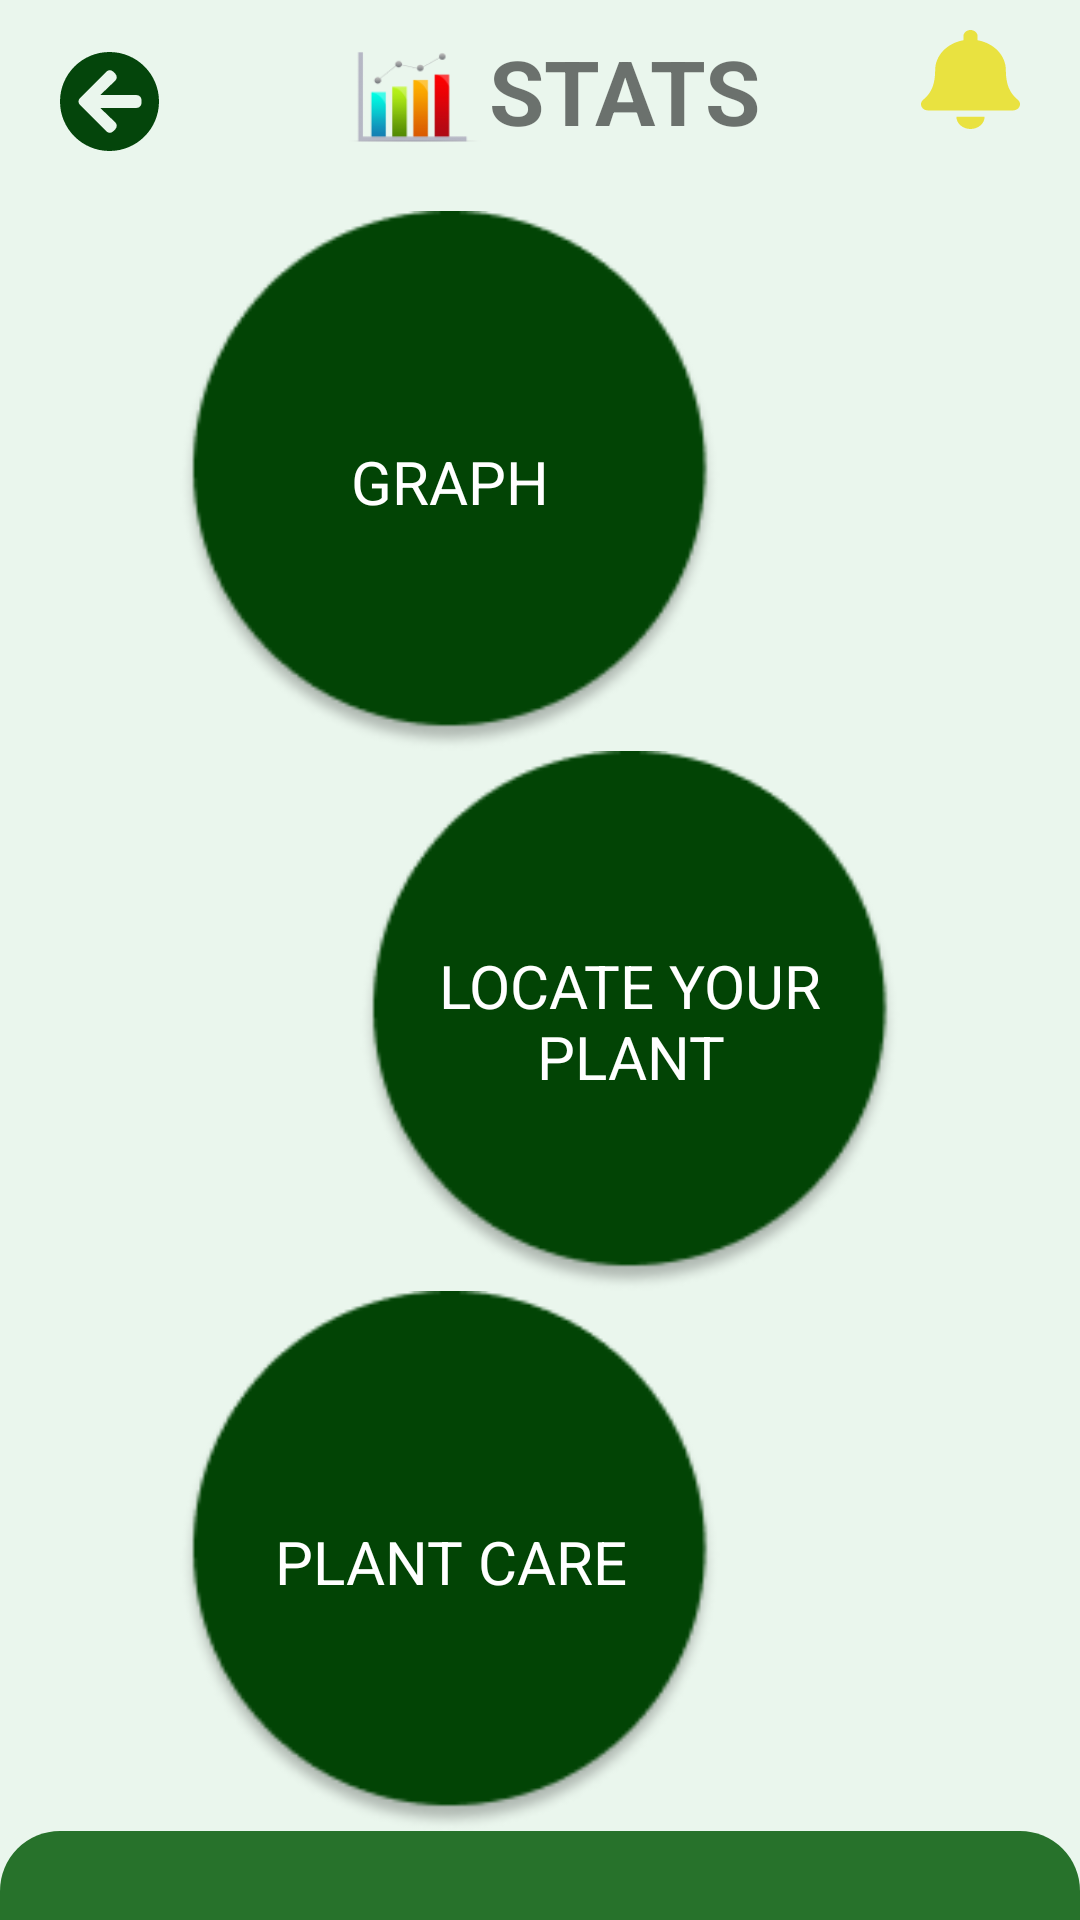

Icon bounding boxes for this 1080px x 1920px phone screenshot, format (x1, y1, x2, y2):
back: (60, 52, 159, 151)
bell: (921, 30, 1020, 129)
